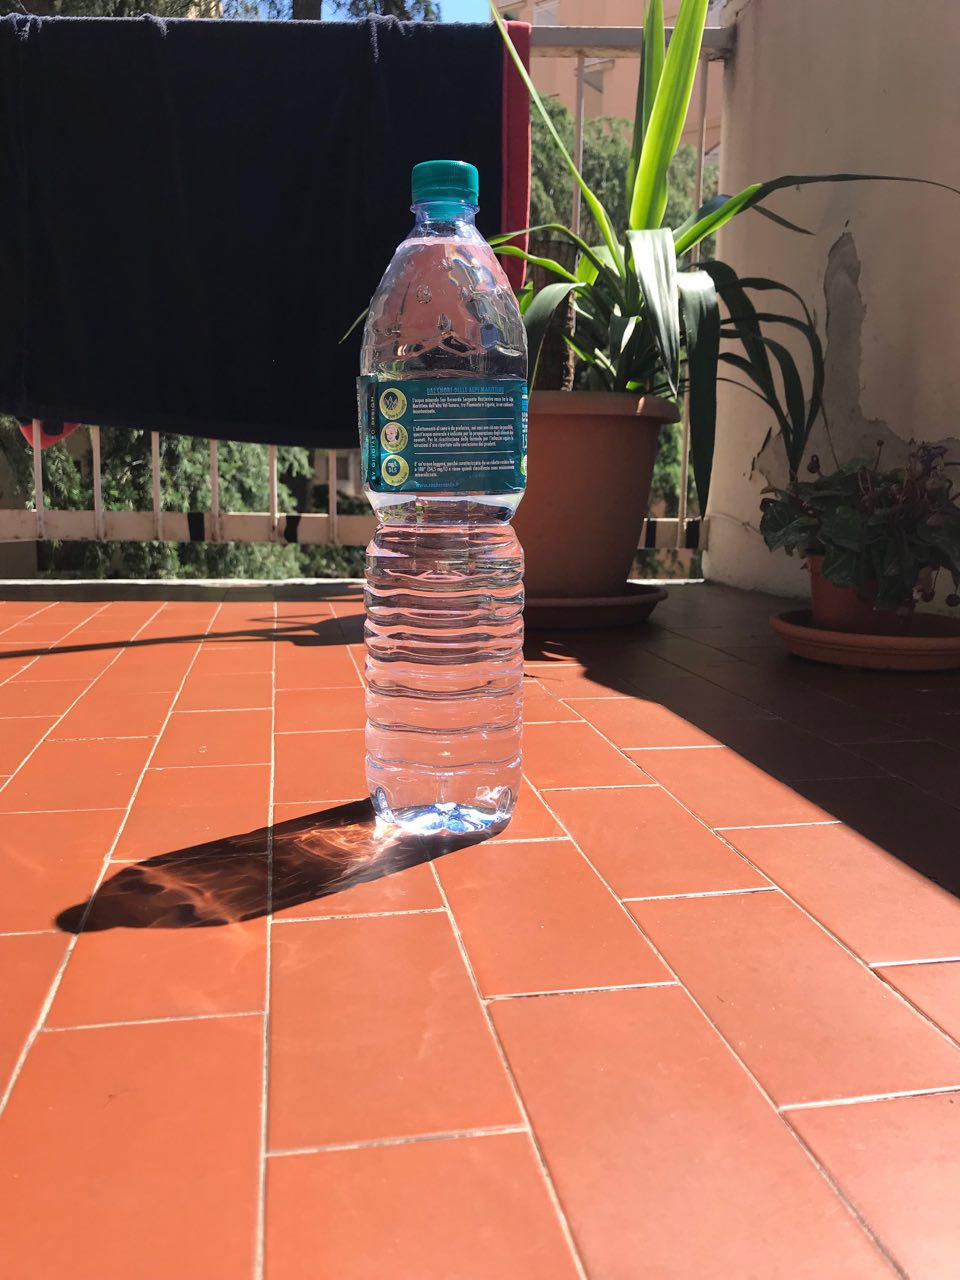san_bernardo: (354, 157, 529, 836)
